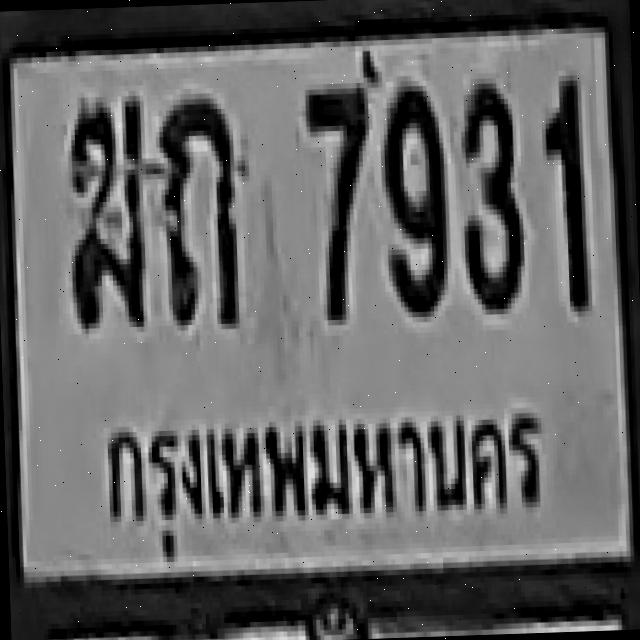1: (540, 75, 584, 307)
15KhorRaKhang: (62, 93, 147, 321)
3: (454, 77, 526, 310)
7: (302, 82, 373, 320)
9: (378, 80, 444, 312)
Bangkok: (88, 387, 556, 570)
